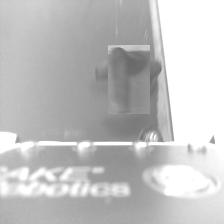Door Handle: (101, 51, 157, 107)
Lock: (138, 126, 168, 142)
